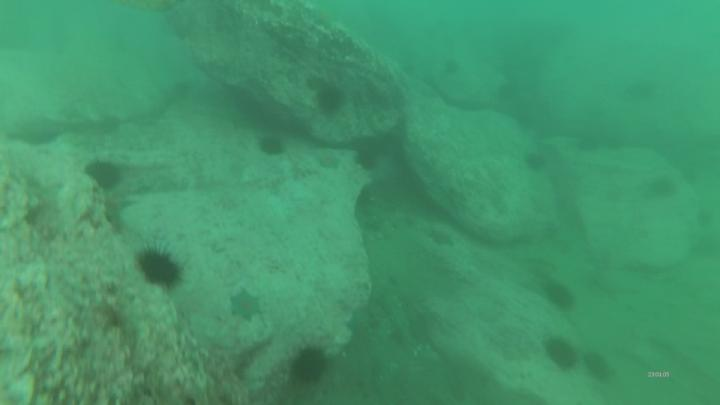echinus: (140, 252, 177, 286), (544, 339, 578, 368), (299, 347, 327, 377), (91, 164, 120, 187), (317, 87, 343, 112), (651, 177, 678, 199), (547, 285, 573, 307), (355, 148, 380, 170), (588, 353, 611, 375), (575, 134, 600, 154), (526, 151, 546, 174), (261, 138, 283, 154)
starfish: (231, 294, 261, 320), (317, 153, 342, 170), (430, 226, 452, 245)
